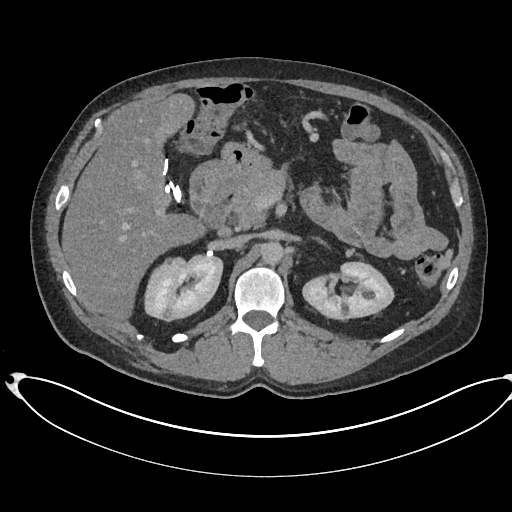Lesion: (159, 301, 174, 319)
